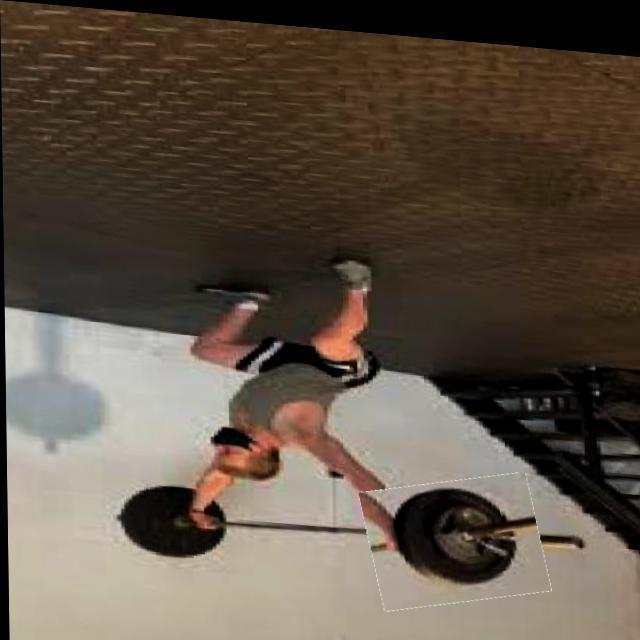barbell: (363, 461, 546, 609)
